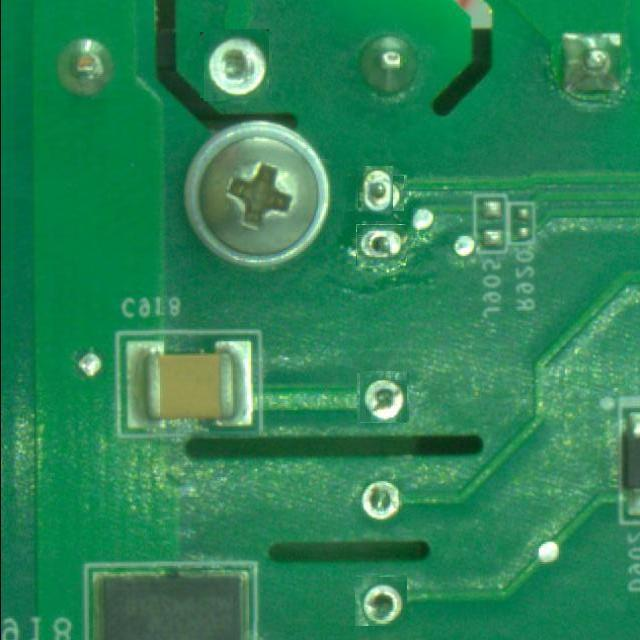lack_of_part: (201, 30, 271, 100), (353, 478, 408, 532), (356, 576, 407, 626), (358, 372, 408, 422), (356, 224, 406, 266), (353, 171, 399, 216)
